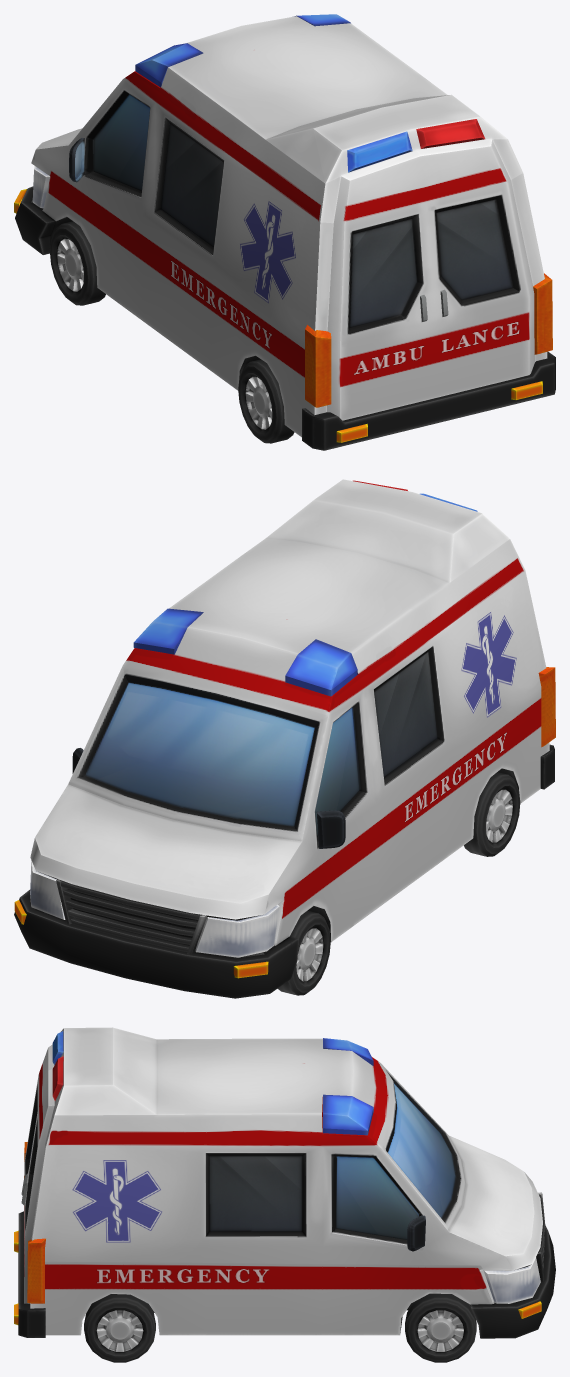
File: Car.dae
3 views of the same model, one above another, from view 1: azimuth 30°, elevation 25°; view 2: azimuth 150°, elevation 25°; view 3: azimuth 270°, elevation 25° (orthographic). The views are drawn at different scales.
Visible parts, largest first — view 1: ambulance; view 2: ambulance; view 3: ambulance.
Part boxes in pixels (box(x1,y1,x2,y2)): ambulance: box(14, 14, 555, 450); ambulance: box(14, 479, 555, 998); ambulance: box(14, 1027, 555, 1362).
Bounding box in the file's own units: 2.75 × 5.64 × 3.
1 material, 1 textured.
